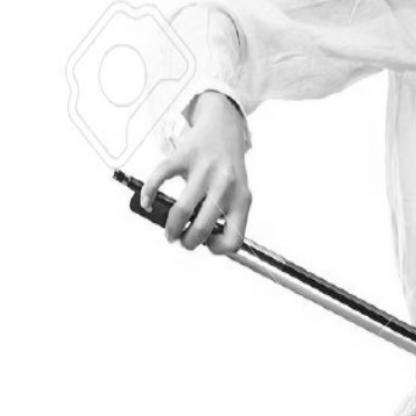bad: (130, 106, 258, 266)
